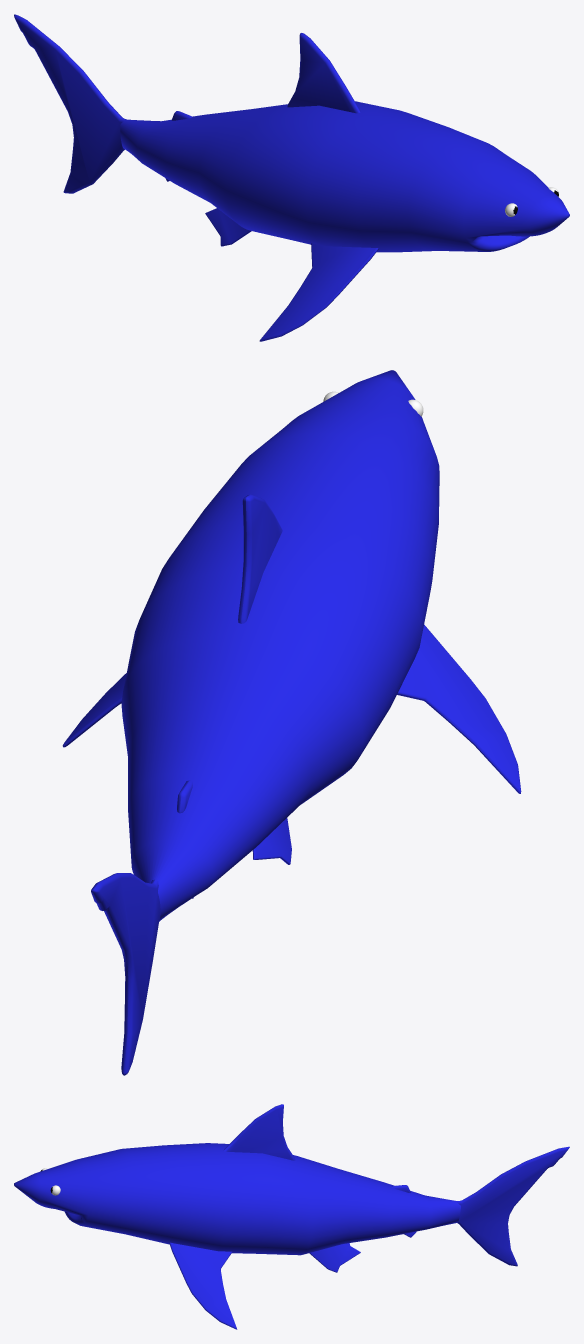
Rendered from blue-shark.glb.
3 views of the same model, one above another, from view 1: azimuth 30°, elevation 25°; view 2: azimuth 150°, elevation 25°; view 3: azimuth 270°, elevation 25° (orthographic). The views are drawn at different scales.
Visible parts, largest first — view 1: Jaws.002, Vert.016, Vert.012, Vert.017, Vert.013; view 2: Jaws.002, Vert.012, Vert.016, Vert.017, Vert.013; view 3: Jaws.002, Vert.016, Vert.012, Vert.017, Vert.013.
Boxes of the visible parts, bbox=[...] form: Jaws.002: bbox=[120, 101, 569, 252]; Vert.016: bbox=[14, 14, 126, 193]; Vert.012: bbox=[259, 243, 378, 341]; Vert.017: bbox=[287, 33, 360, 113]; Vert.013: bbox=[205, 208, 251, 246]; Jaws.002: bbox=[121, 370, 439, 921]; Vert.012: bbox=[62, 624, 521, 793]; Vert.016: bbox=[91, 873, 160, 1075]; Vert.017: bbox=[238, 494, 282, 623]; Vert.013: bbox=[252, 818, 291, 864]; Jaws.002: bbox=[14, 1143, 460, 1255]; Vert.016: bbox=[457, 1146, 569, 1266]; Vert.012: bbox=[169, 1242, 237, 1329]; Vert.017: bbox=[223, 1104, 295, 1160]; Vert.013: bbox=[309, 1243, 360, 1272].
Size of the model in its own units: 0.6708 by 0.6106 by 1.62.
